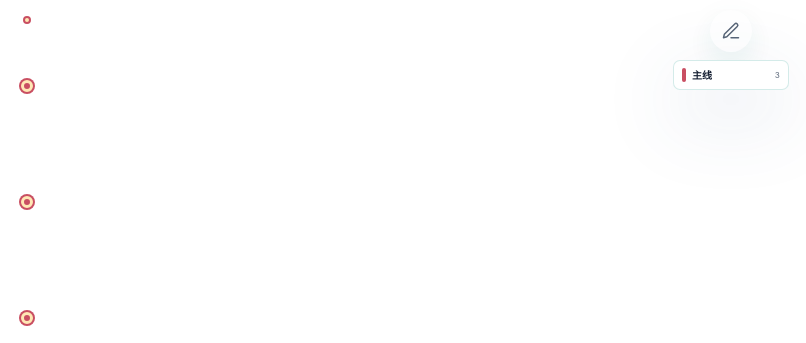
Test: TimelinePage drag interaction › keeps the timeline legend in place while a plot preview card is open
The width and height of the screenshot is (806, 343).
Click the button named "查看剧情：第 12 章" at (27, 86), box [16,75,38,97]
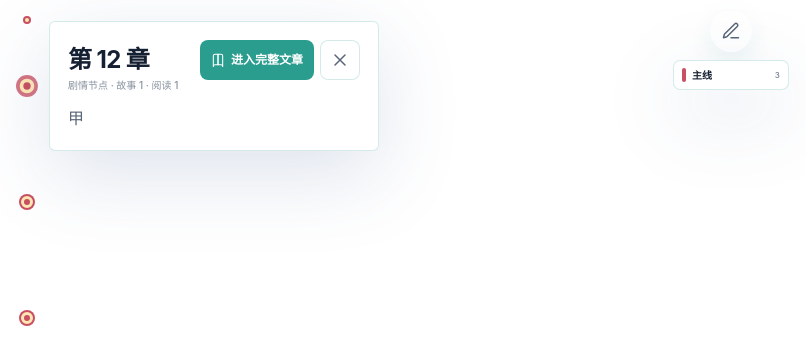
expect the element with class "timeline-plot-card" is shown: met, box [49,21,379,151]
expect the text "剧情节点 · 故事 1 · 阅读 1" is shown: met, box [68,79,190,93]
Click the button named "关闭剧情卡片" at (340, 60), box [320,40,360,80]
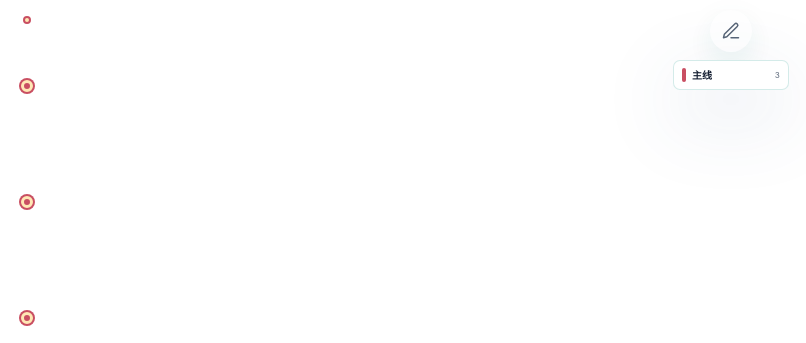
expect the element with class "timeline-plot-card" is gone: met
